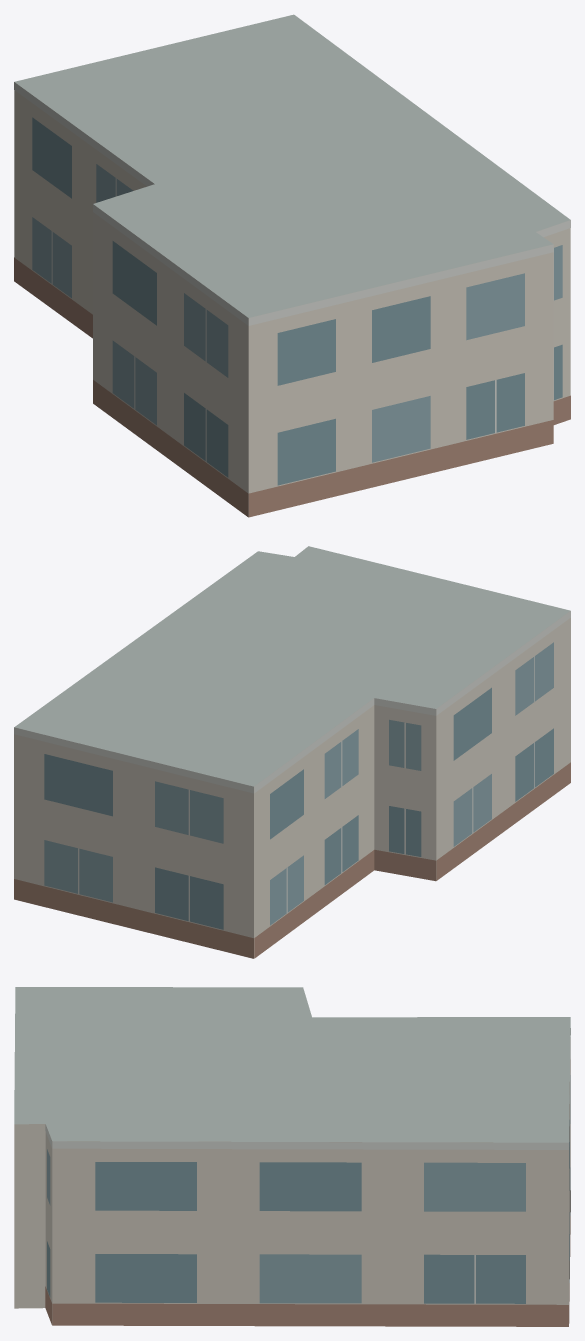
File: survey-upis-32937576.glb
The picture shows the model from 3 angles, top to bottom: view 1: azimuth 30°, elevation 25°; view 2: azimuth 150°, elevation 25°; view 3: azimuth 270°, elevation 25°; orthographic projection. The views are drawn at different scales.
Parts seen in each view (by area): view 1: survey-upis-32937576.tmp; view 2: survey-upis-32937576.tmp; view 3: survey-upis-32937576.tmp.
Part boxes in pixels (left/top/right/bottom): survey-upis-32937576.tmp: left=14, top=14, right=570, bottom=517; survey-upis-32937576.tmp: left=14, top=546, right=570, bottom=958; survey-upis-32937576.tmp: left=14, top=987, right=570, bottom=1326.
Size of the model in its own units: 11.06 by 6.1 by 16.72.
